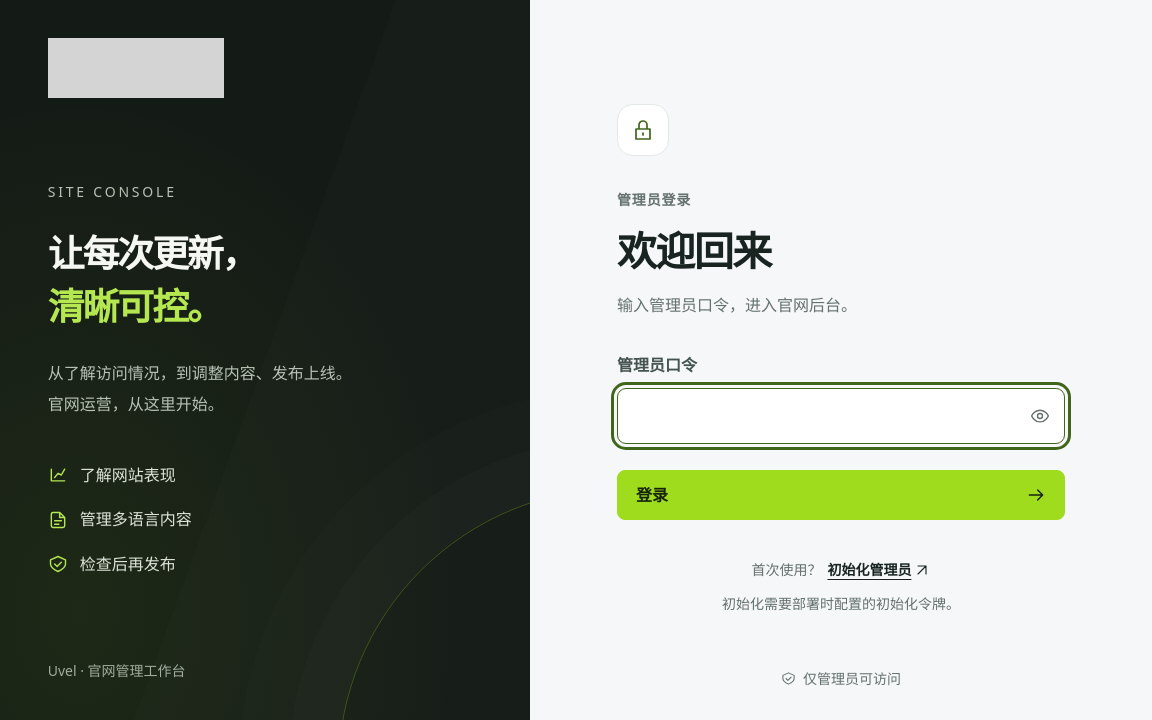
Test case: login form › keeps the failed password editable and presents its error to assistive technology
Click the button "登录": coordinates (652, 495) [617,470,1065,520]
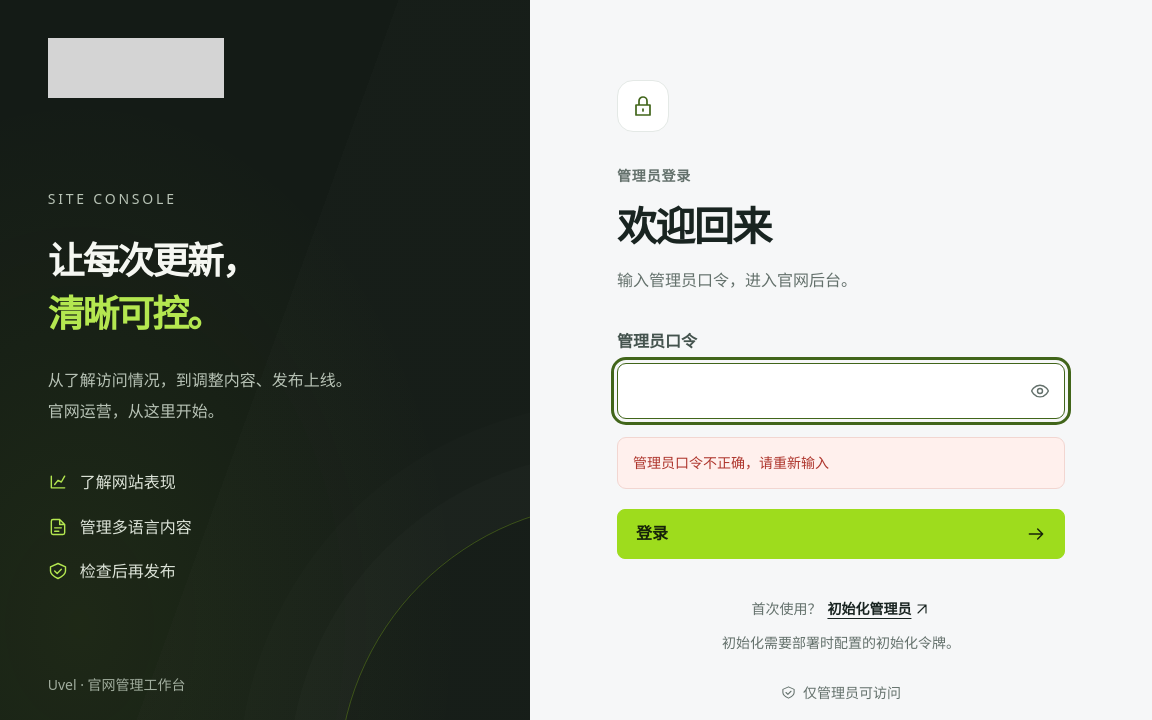
Check: the message shows "管理员口令不正确", box [633,453,829,472]
